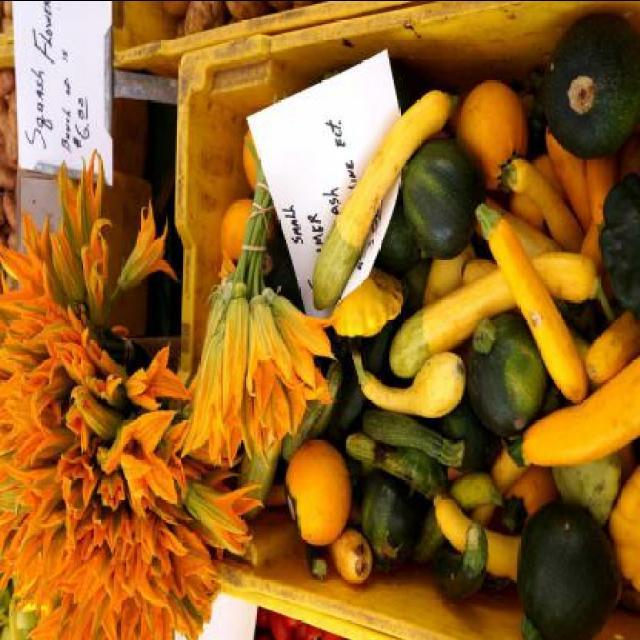Zucchini: (311, 97, 455, 317), (388, 238, 600, 382), (468, 199, 588, 407), (492, 352, 640, 464), (349, 342, 474, 422), (426, 489, 526, 582)
